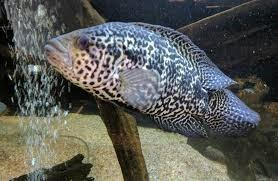Jaguar Gapote: (43, 20, 260, 142)
